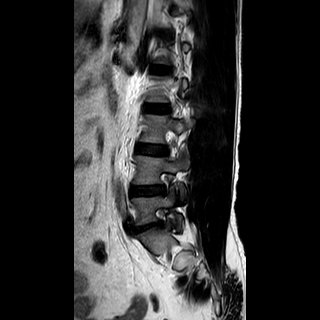LFS1: (153, 168, 178, 199)
LFS2: (149, 201, 175, 233)
